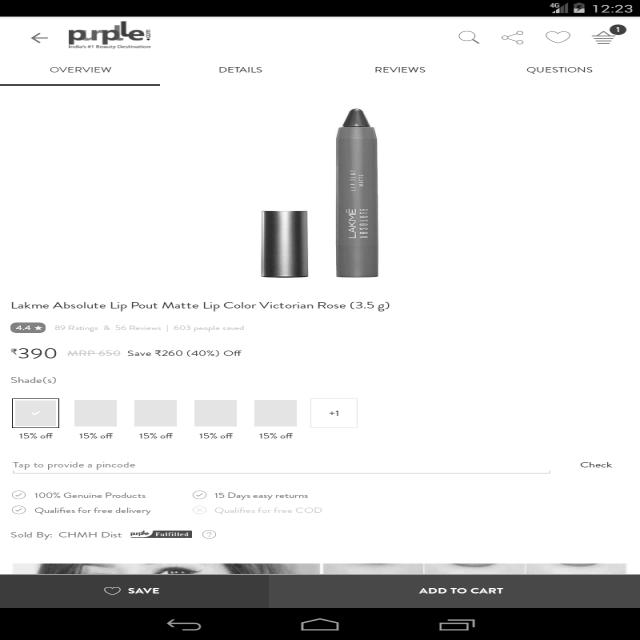Button: (260, 568, 637, 614)
ImageButton: (585, 23, 630, 48), (538, 27, 577, 47), (493, 27, 529, 48), (450, 26, 482, 49), (21, 30, 51, 48)
ImageView: (209, 95, 432, 287), (57, 15, 177, 51), (124, 522, 202, 544), (4, 317, 66, 339)
TextView: (8, 484, 330, 518), (4, 295, 400, 313), (199, 56, 278, 83), (94, 578, 190, 600), (356, 58, 438, 78), (42, 61, 124, 77)
